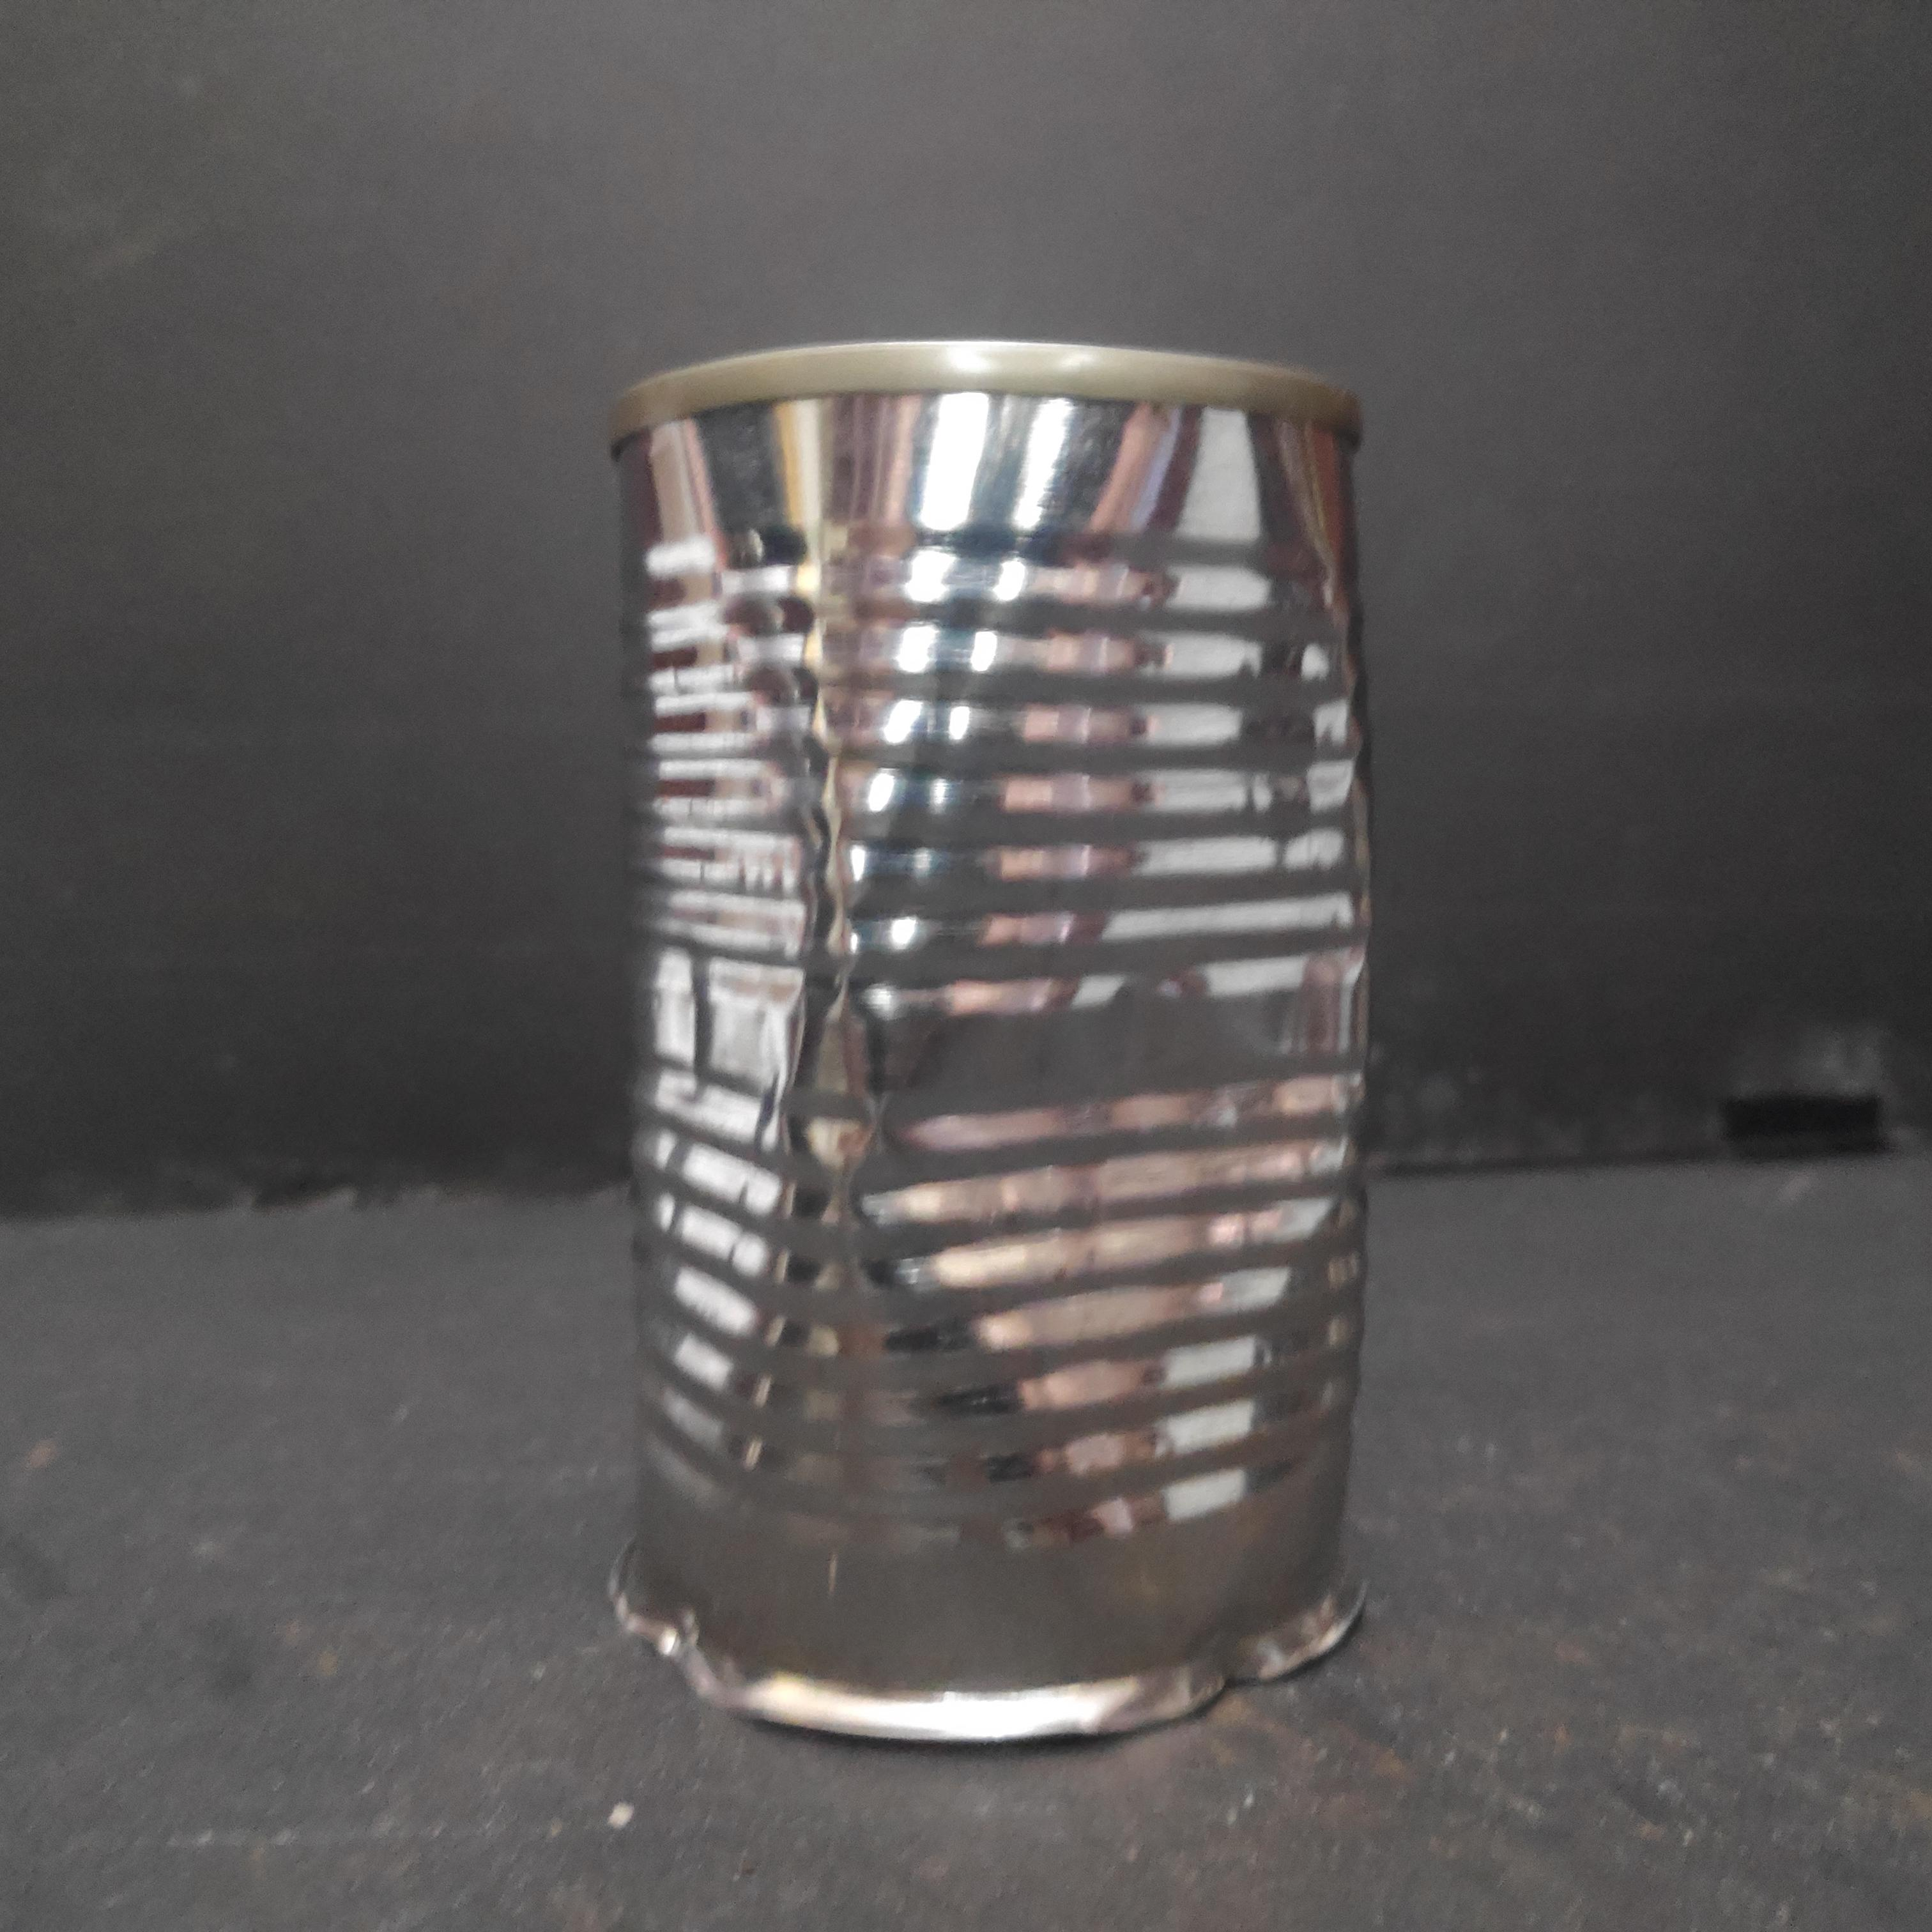Minor Defect: (602, 327, 1396, 1766)
